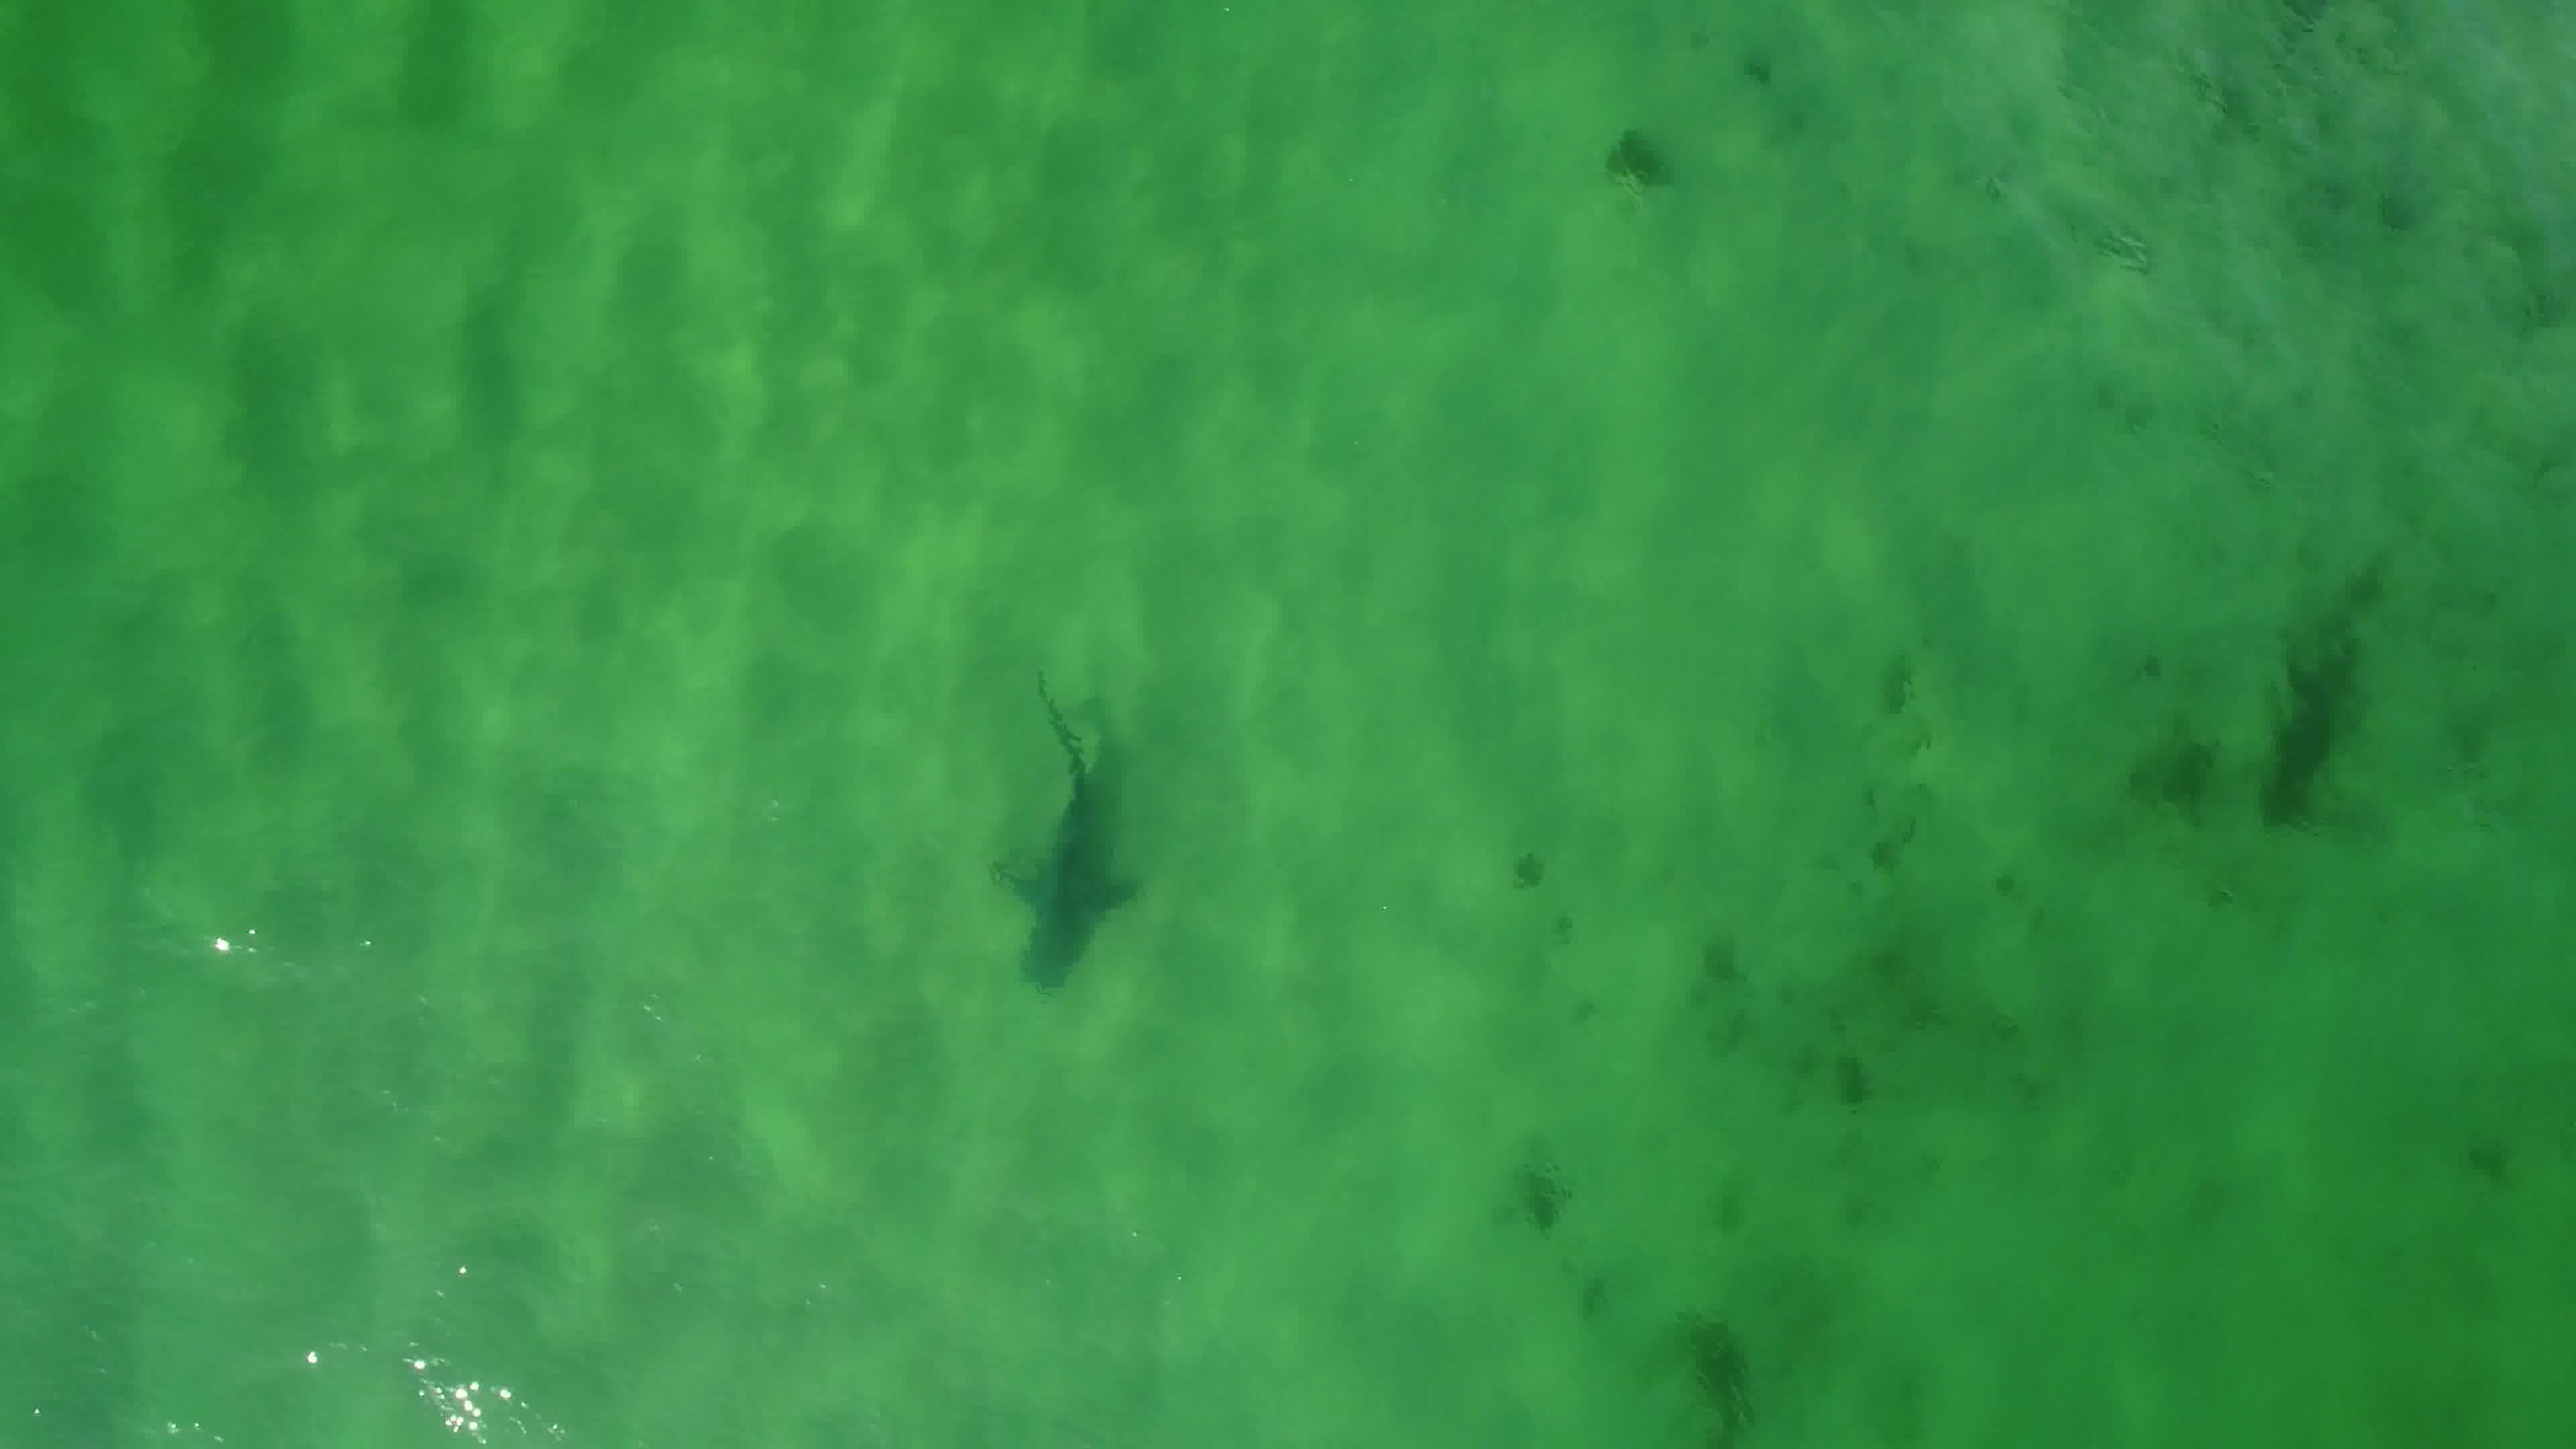shark: (977, 663, 1146, 1000)
